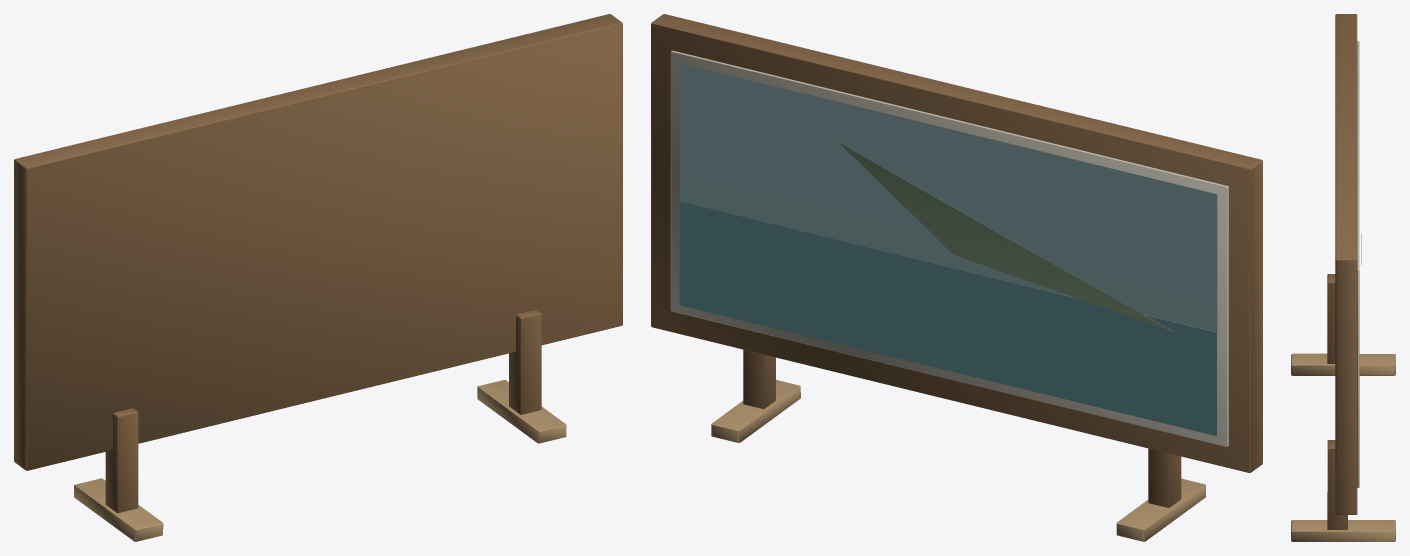
The model's file is mural_stage1.glb.
3 views of the same model, side by side, from view 1: azimuth 30°, elevation 25°; view 2: azimuth 150°, elevation 25°; view 3: azimuth 270°, elevation 25° (orthographic). The views are drawn at different scales.
Size of the model in its own units: 4 by 2.4 by 0.72.
